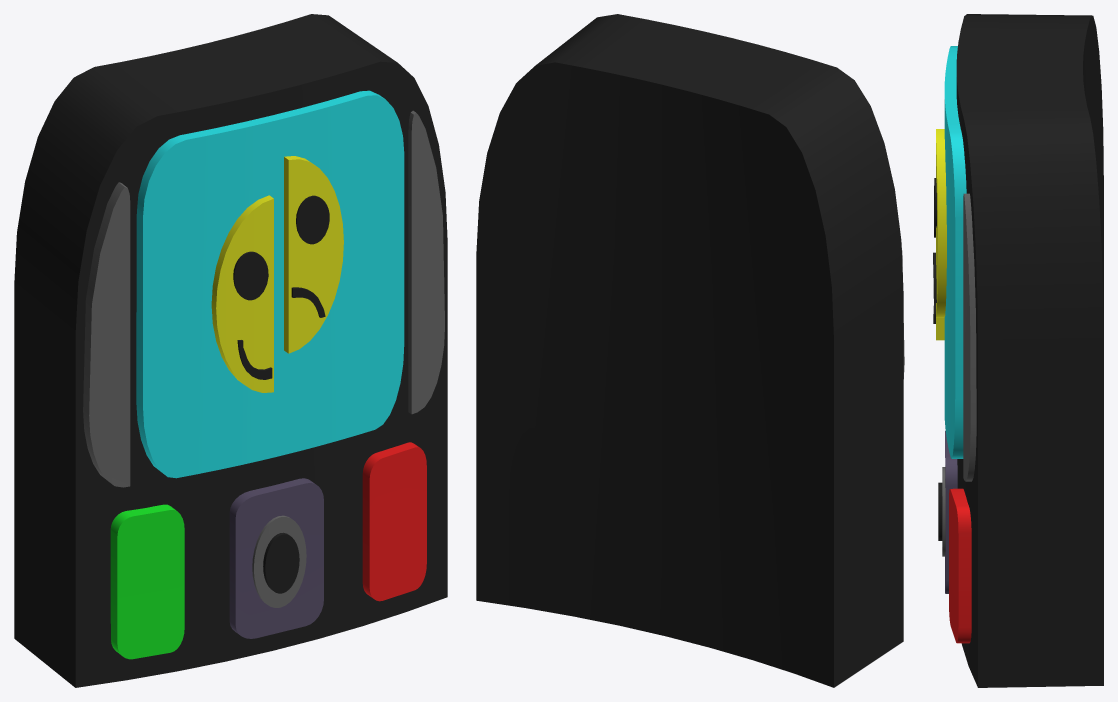
File: Emoji_Inner.fbx
The picture shows the model from 3 angles, left to right: view 1: azimuth 30°, elevation 25°; view 2: azimuth 150°, elevation 25°; view 3: azimuth 270°, elevation 25°; orthographic projection. The views are drawn at different scales.
Visible parts, largest first — view 1: Emoji_Inner; view 2: Emoji_Inner; view 3: Emoji_Inner.
Part boxes in pixels (x1=…): Emoji_Inner: x1=14, y1=14, x2=447, y2=687; Emoji_Inner: x1=476, y1=14, x2=904, y2=687; Emoji_Inner: x1=933, y1=14, x2=1103, y2=687.
Size of the model in its own units: 24.01 by 34.44 by 10.
